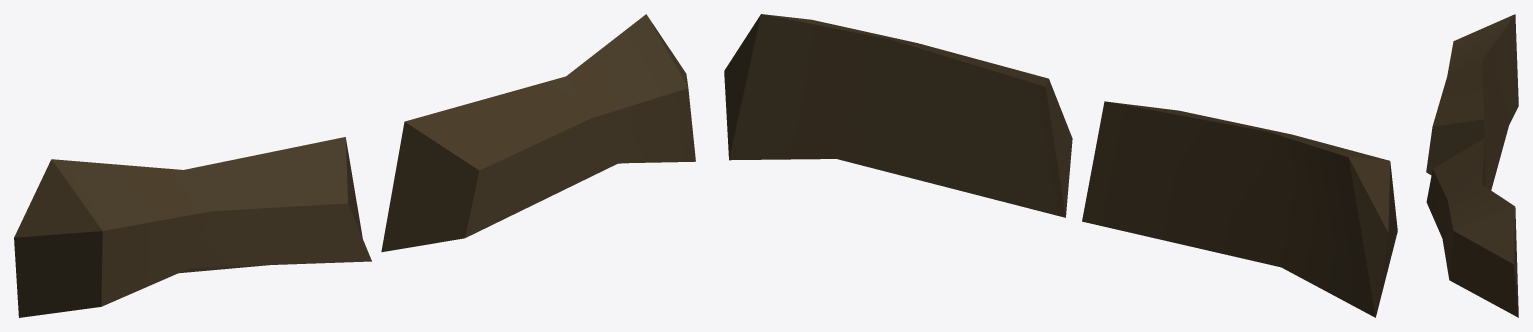
File: Chr_Eyebrow_Male_07_Static.fbx
3 renders of one model, left to right at view 1: azimuth 30°, elevation 25°; view 2: azimuth 150°, elevation 25°; view 3: azimuth 270°, elevation 25°, orthographic. The views are drawn at different scales.
Visible parts, largest first — view 1: Chr_Eyebrow_Male_07_Static; view 2: Chr_Eyebrow_Male_07_Static; view 3: Chr_Eyebrow_Male_07_Static.
Part boxes in pixels (bbox=[...]): Chr_Eyebrow_Male_07_Static: bbox=[14, 14, 695, 317]; Chr_Eyebrow_Male_07_Static: bbox=[724, 14, 1397, 317]; Chr_Eyebrow_Male_07_Static: bbox=[1426, 14, 1518, 317].
Bounding box in the file's own units: 0.176 × 0.0384 × 0.0317.
